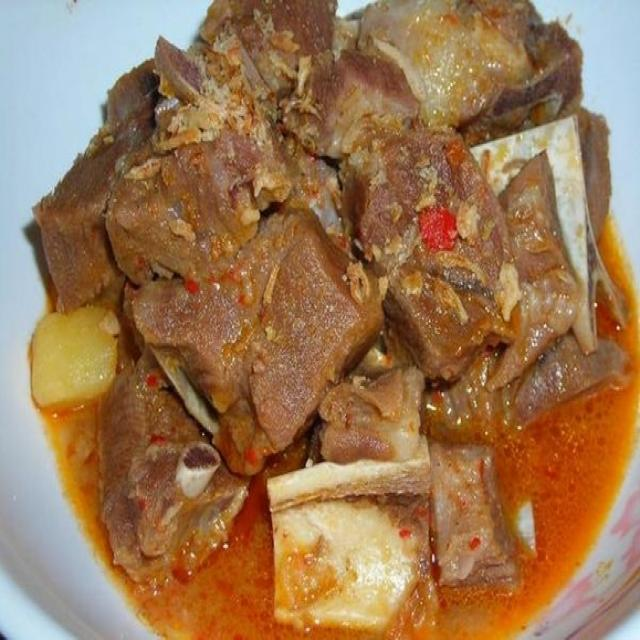熟制海鲜: (20, 15, 633, 618)
